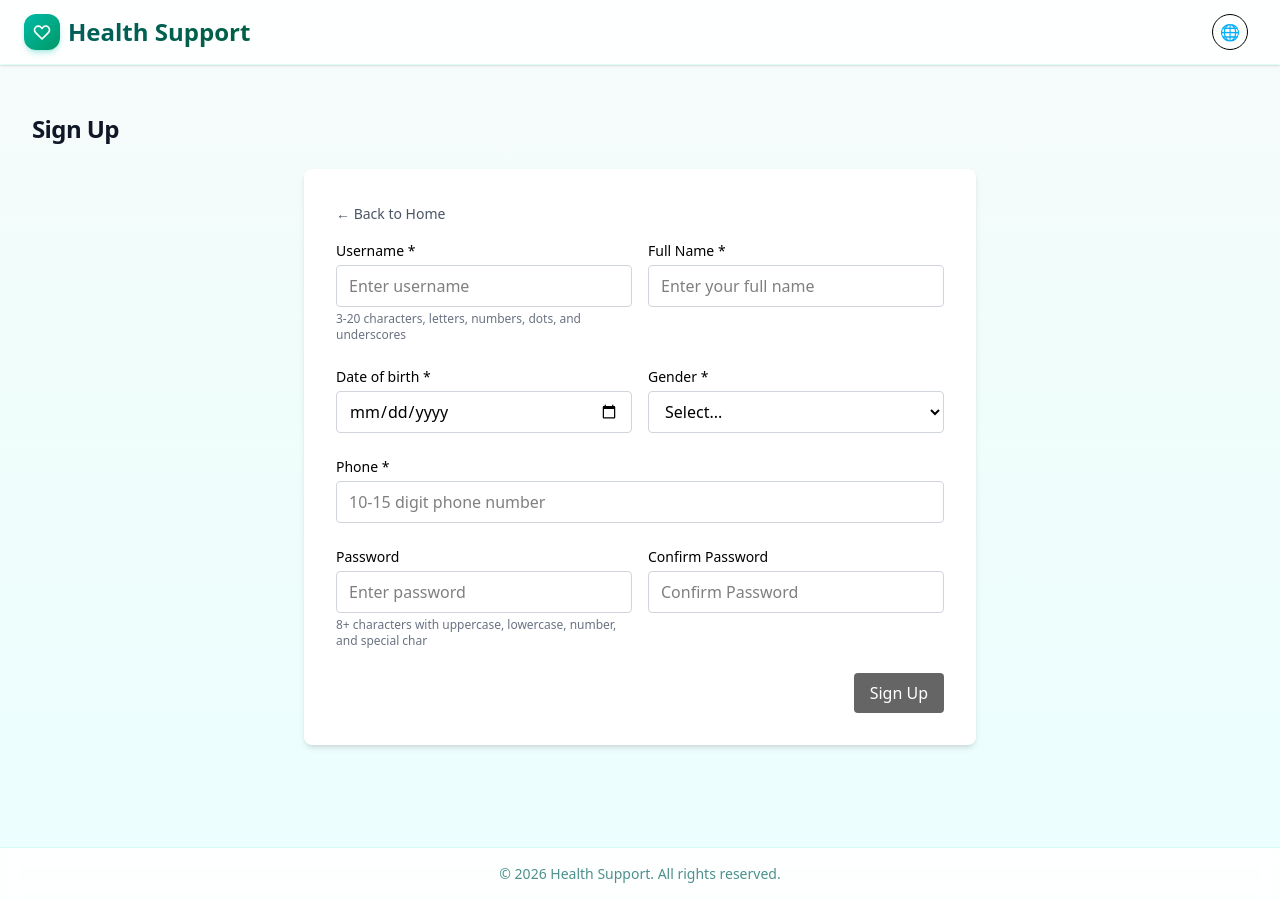
Scenario: Signup › Validation › shows error for name too short
Type "A" into the field labelled "Full Name *" at (796, 286), box [648,265,944,307]
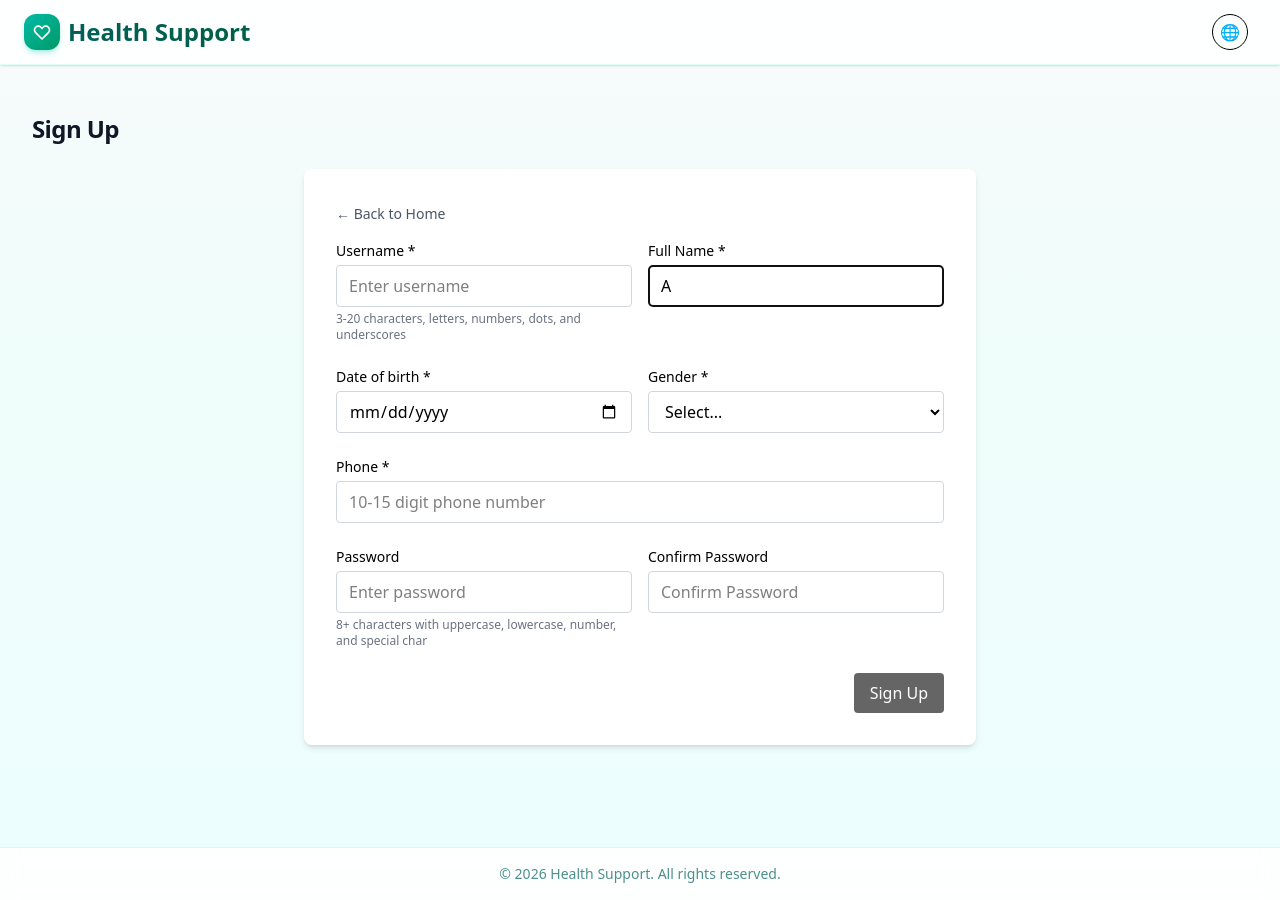
Press Tab
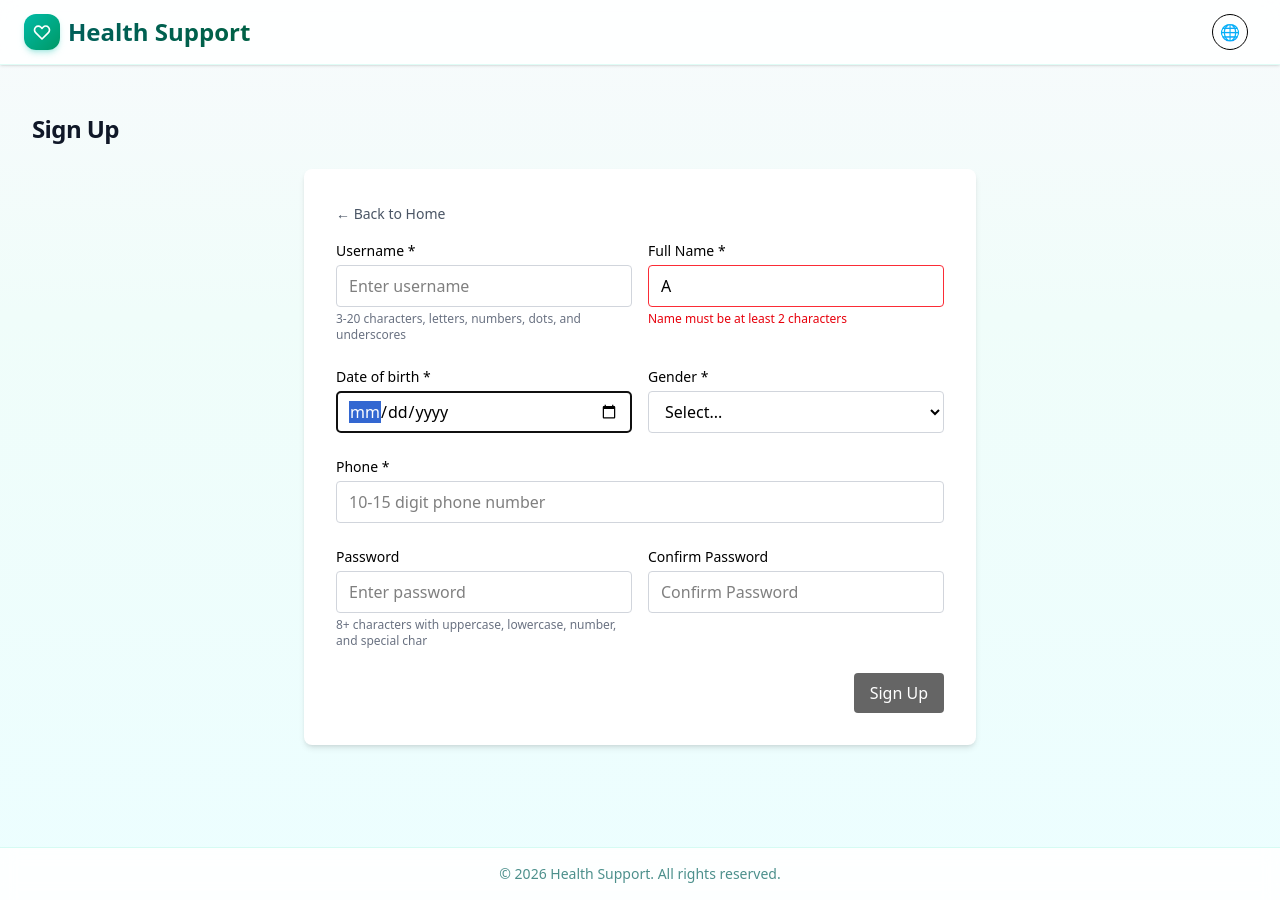
Expected: the text "Name must be at least 2 characters" is shown, [648,310,847,327]
